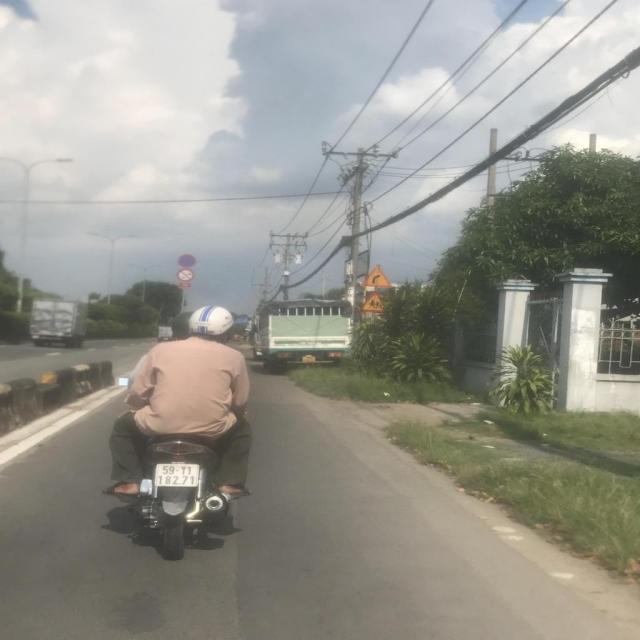cam_dung_xe_va_do_xe: (178, 254, 197, 269)
cam_xe_2_banh_va_xe_3_banh_co_dong_co: (177, 269, 194, 282)
cho_ngoat_nguy_hiem_ben_phai: (360, 265, 392, 287)
chu_y_tre_em: (358, 291, 384, 312)
